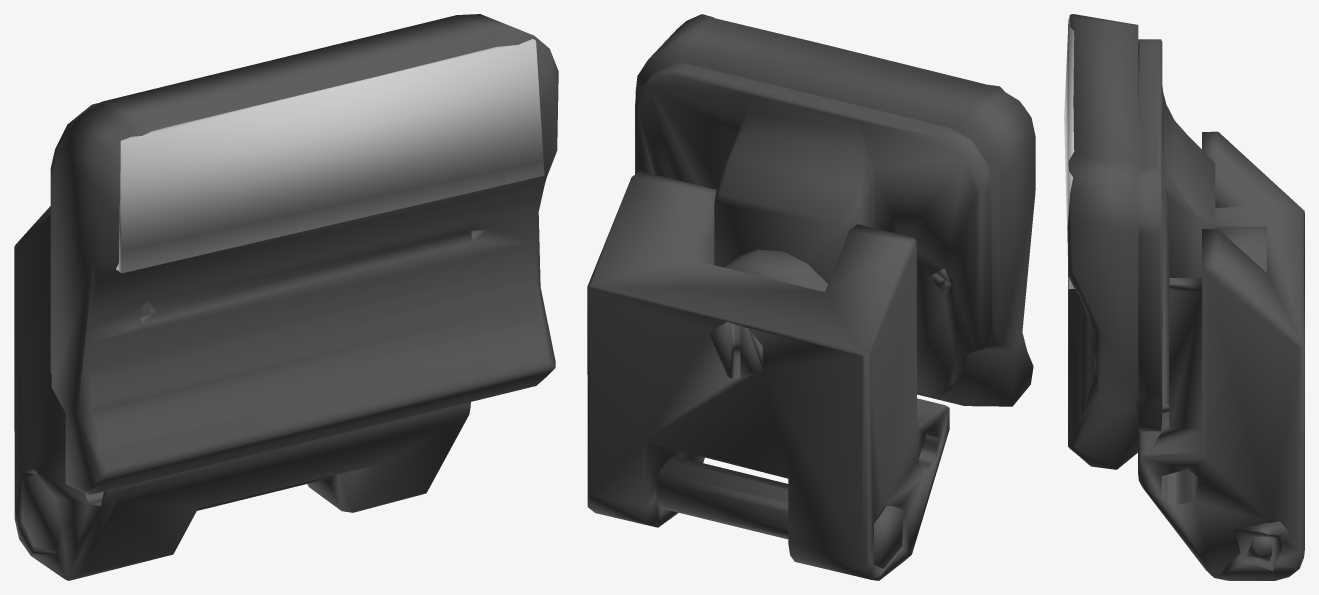
The model's file is r_distal.dae.
3 renders of one model, left to right at view 1: azimuth 30°, elevation 25°; view 2: azimuth 150°, elevation 25°; view 3: azimuth 270°, elevation 25°, orthographic. The views are drawn at different scales.
Parts seen in each view (by area): view 1: Right_Distal, Right_Fingertip; view 2: Right_Distal; view 3: Right_Distal, Right_Fingertip.
Part boxes in pixels (<box>): Right_Distal: <box>14,14,558,580</box>; Right_Fingertip: <box>116,39,544,273</box>; Right_Distal: <box>587,14,1035,580</box>; Right_Distal: <box>1067,14,1304,580</box>; Right_Fingertip: <box>1064,18,1074,288</box>.
Size of the model in its own units: 0.039 by 0.0222 by 0.0431.
